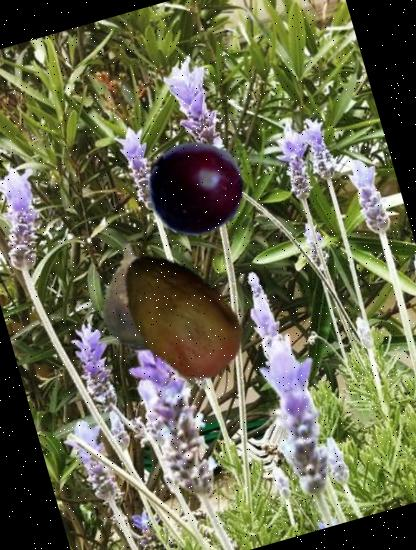Beetroot: (66, 222, 210, 367)
Papaya: (90, 222, 272, 404)
Plum: (136, 128, 256, 248)
